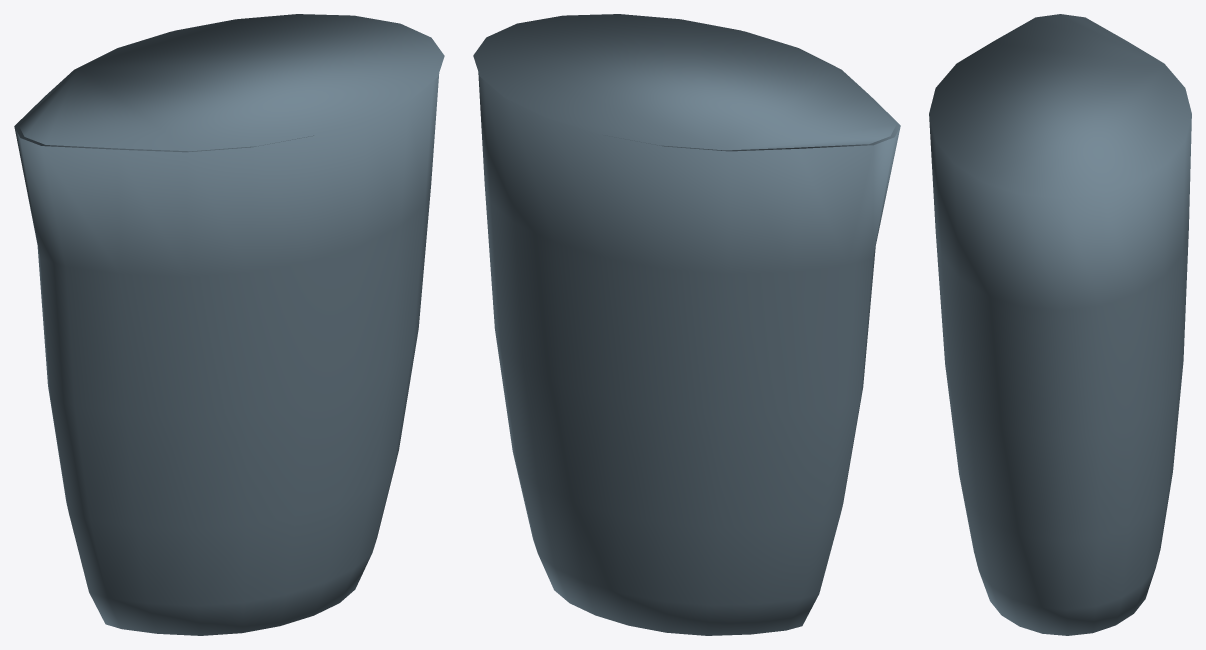
Rendered from relleno.fbx.
The picture shows the model from 3 angles, left to right: view 1: azimuth 30°, elevation 25°; view 2: azimuth 150°, elevation 25°; view 3: azimuth 270°, elevation 25°; orthographic projection. The views are drawn at different scales.
Visible parts, largest first — view 1: Cylinder004.001; view 2: Cylinder004.001; view 3: Cylinder004.001.
Part boxes in pixels (bbox=[...]): Cylinder004.001: bbox=[14, 14, 444, 635]; Cylinder004.001: bbox=[473, 14, 900, 635]; Cylinder004.001: bbox=[929, 14, 1191, 635].
Bounding box in the file's own units: 23.72 × 28.86 × 14.24.
